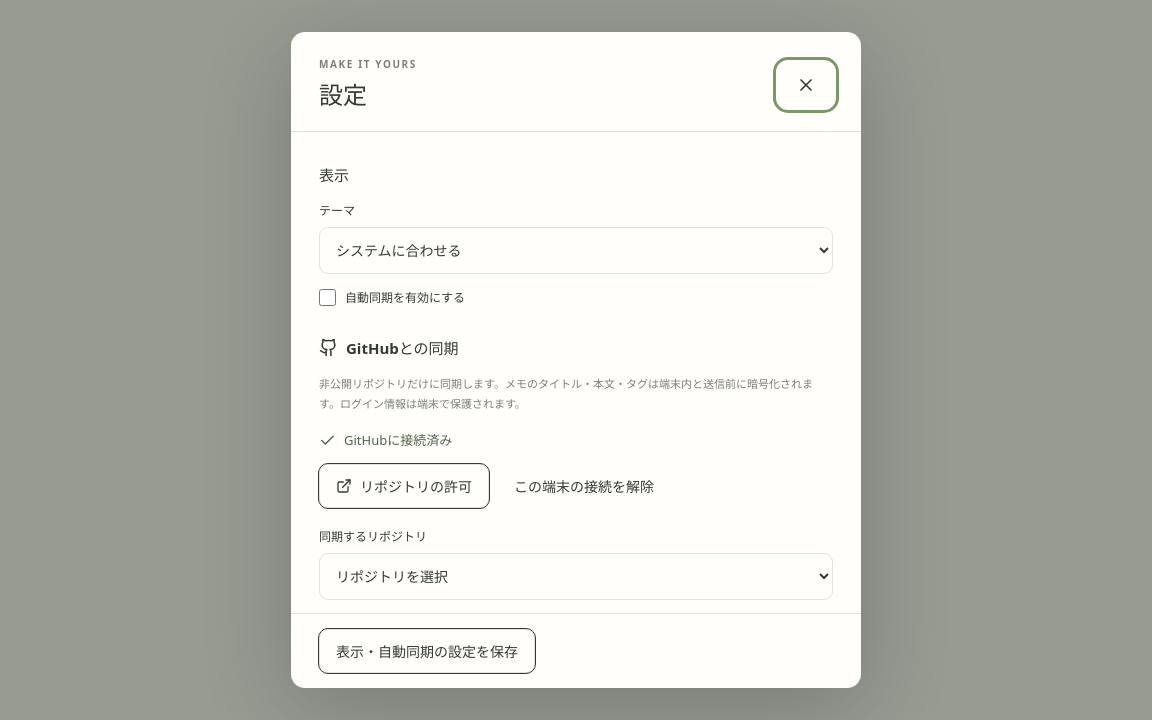
Test: explains an empty repository and enables connection after creating its first branch
Select "octocat/notes（非公開）" in the dropdown labelled "同期するリポジトリ" at [576, 577], box x1=319 y1=553 x2=833 y2=600
(page scrolled)
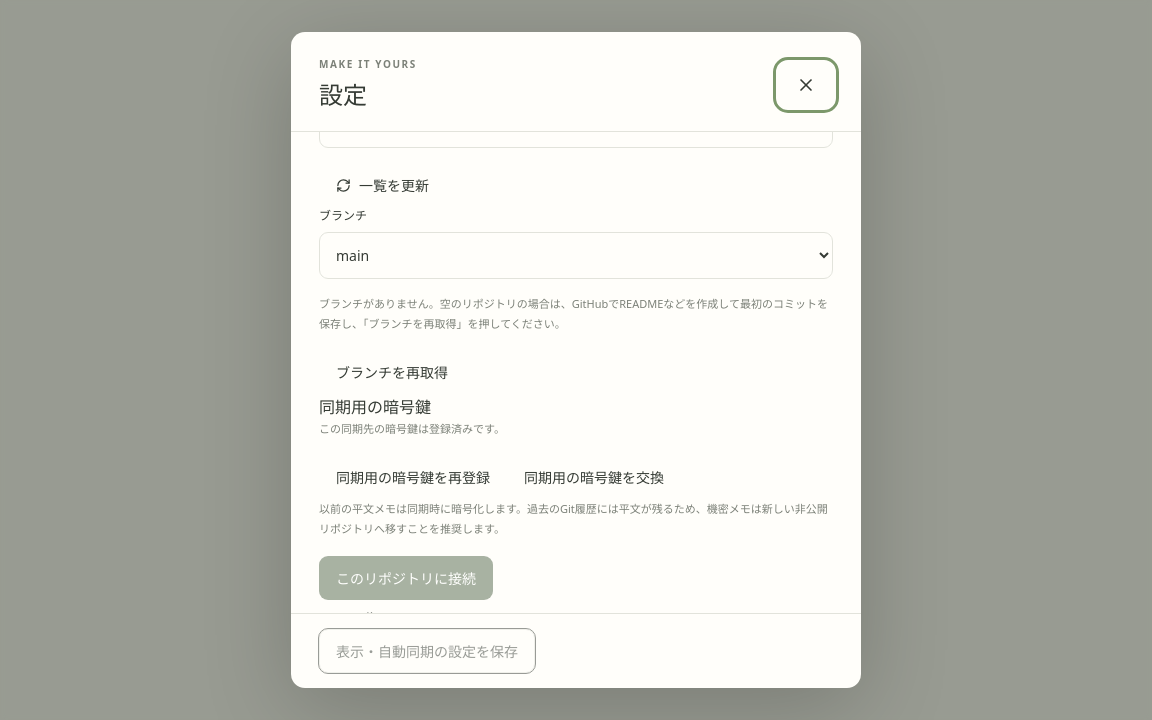
Now the text "ブランチがありません。空のリポジトリの場合は、GitHubでREADMEなどを作成して最初のコミットを保存し、「ブランチを再取得」を押してください。" is shown, box x1=319 y1=294 x2=833 y2=334
Now the button "このリポジトリに接続" is disabled, box x1=319 y1=556 x2=493 y2=600
Click the button "ブランチを再取得" at [392, 373], box x1=319 y1=351 x2=465 y2=395
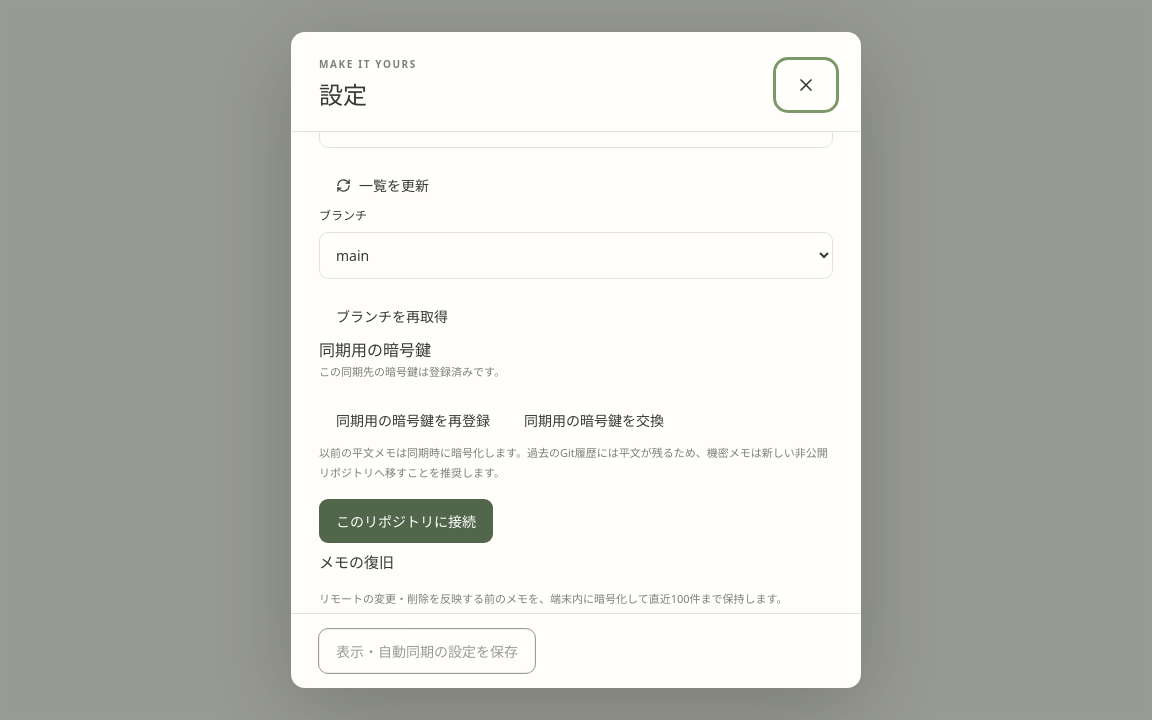
Now the text "最初のコミット" is gone
Now the button "このリポジトリに接続" is enabled, box x1=319 y1=500 x2=493 y2=544
